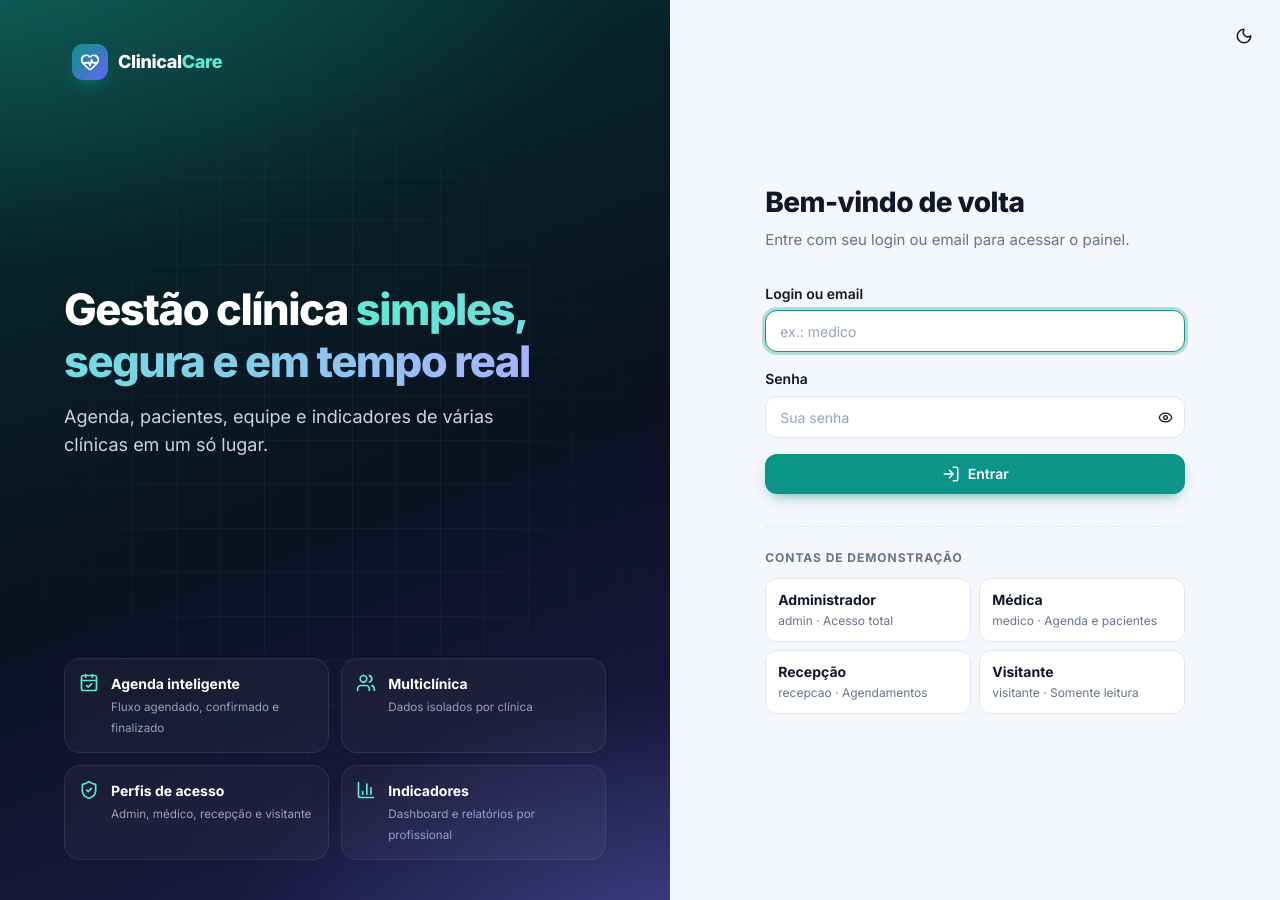
Test case: login › entra com a conta de demonstração da médica e abre o dashboard da própria clínica
Click the button "Médica medico · Agenda e pacientes" at [1082, 610], box 979,578 -> 1185,642
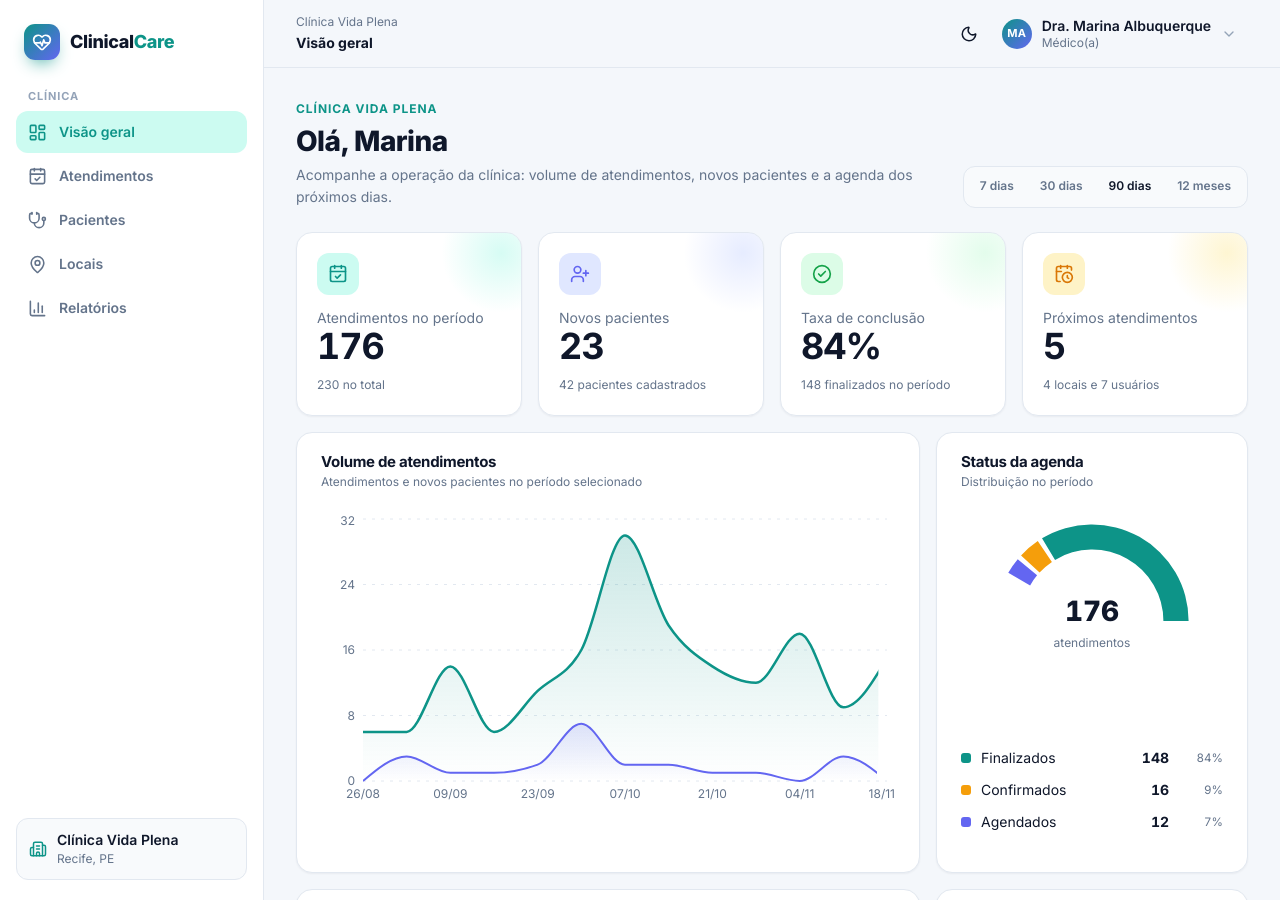
Check: the heading "Olá, Marina" is shown, box 296,124 -> 448,158
Check: the text "Atendimentos no período" is shown, box 317,307 -> 501,328
